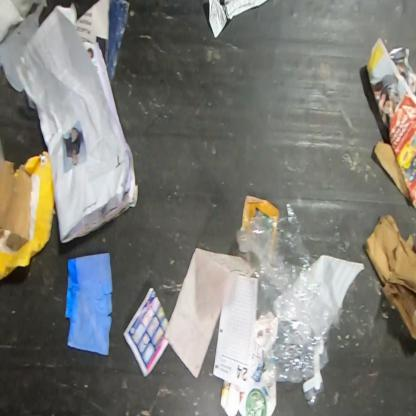cardboard: (363, 214, 415, 342), (0, 160, 33, 241), (374, 140, 408, 201)
soft_plastic: (232, 196, 340, 407)
